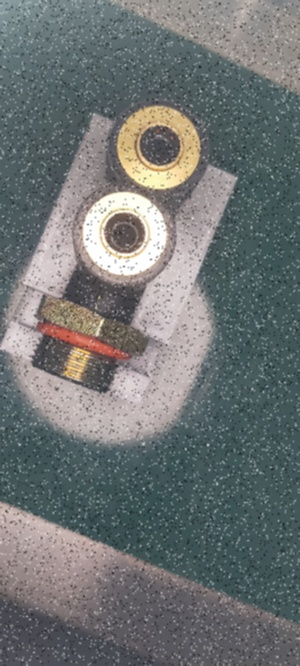craze: (91, 291, 102, 312)
